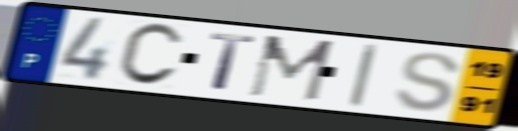4: (57, 15, 112, 83)
C: (114, 21, 186, 89)
I: (346, 42, 381, 110)
M: (245, 33, 338, 104)
S: (393, 50, 465, 114)
T: (207, 31, 260, 93)
